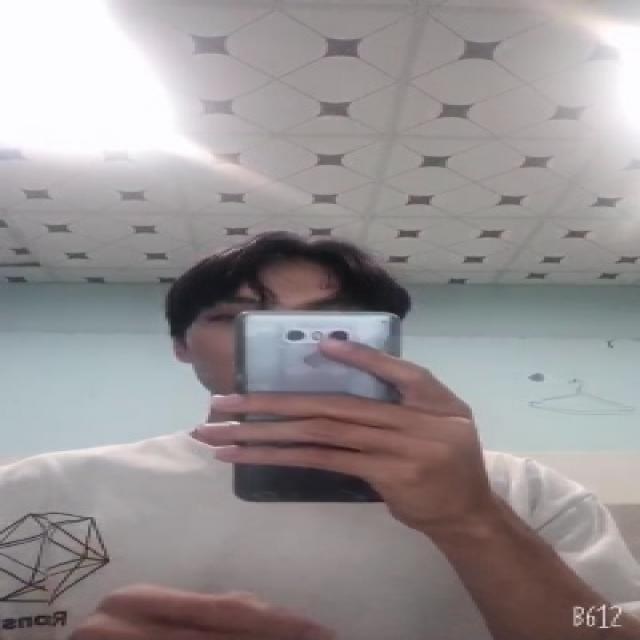Phone: (235, 306, 406, 504)
